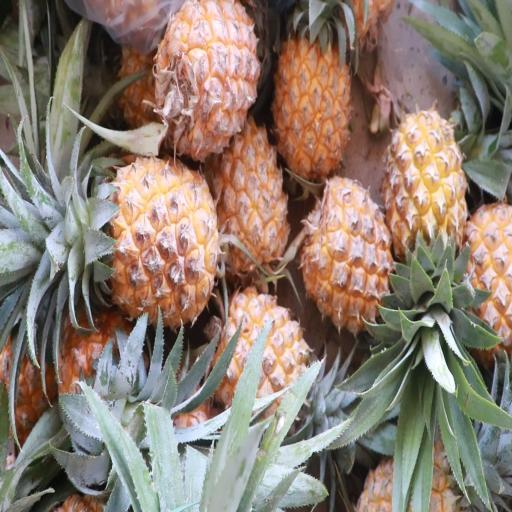Pineapple - v8 v1: (54, 150, 225, 328), (211, 280, 326, 438), (150, 1, 259, 164), (380, 104, 469, 301), (299, 171, 402, 340), (271, 4, 354, 188), (212, 106, 293, 282)
